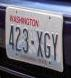2: (15, 26, 21, 52)
3: (22, 28, 29, 53)
4: (9, 25, 15, 50)
G: (43, 32, 51, 60)
X: (36, 30, 44, 58)
Y: (51, 33, 59, 62)
